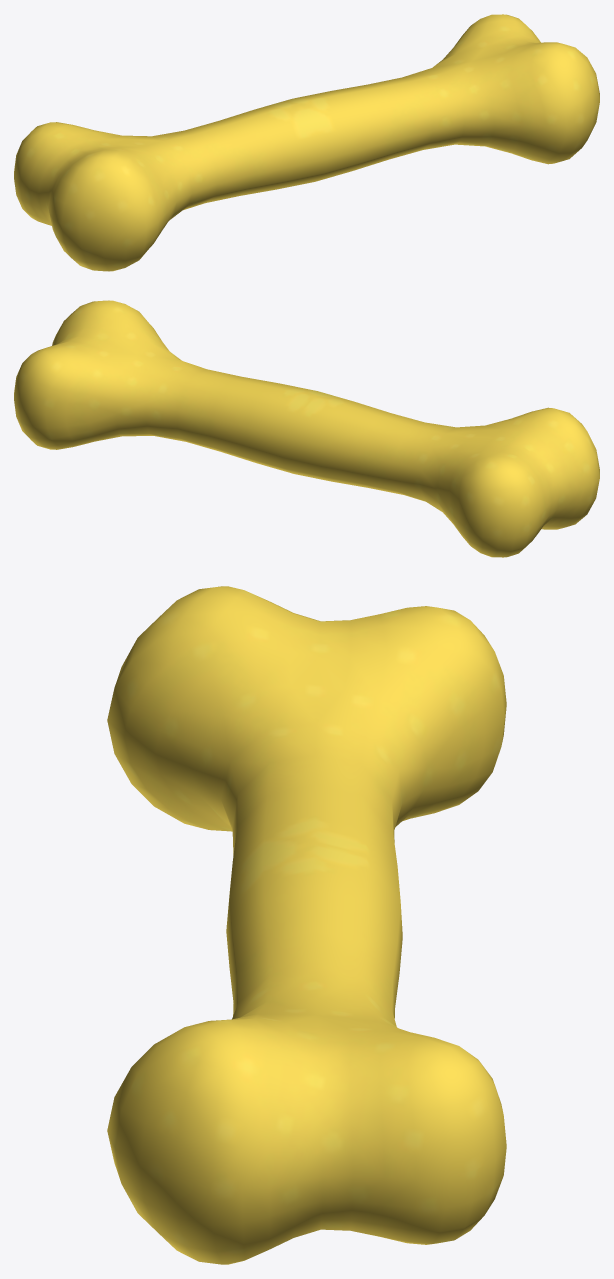
The model's file is SM_Bone_1.obj.
3 renders of one model, top to bottom at view 1: azimuth 30°, elevation 25°; view 2: azimuth 150°, elevation 25°; view 3: azimuth 270°, elevation 25°, orthographic. The views are drawn at different scales.
Visible parts, largest first — view 1: SM_Bone_1_M_CT_FoodToy_color; view 2: SM_Bone_1_M_CT_FoodToy_color; view 3: SM_Bone_1_M_CT_FoodToy_color.
Part boxes in pixels (left/top/right/bottom): SM_Bone_1_M_CT_FoodToy_color: left=14, top=14, right=599, bottom=271; SM_Bone_1_M_CT_FoodToy_color: left=14, top=300, right=599, bottom=557; SM_Bone_1_M_CT_FoodToy_color: left=107, top=586, right=506, bottom=1264.
Bounding box in the file's own units: 0.1873 × 0.0375 × 0.0599.
1 material, 1 textured.
